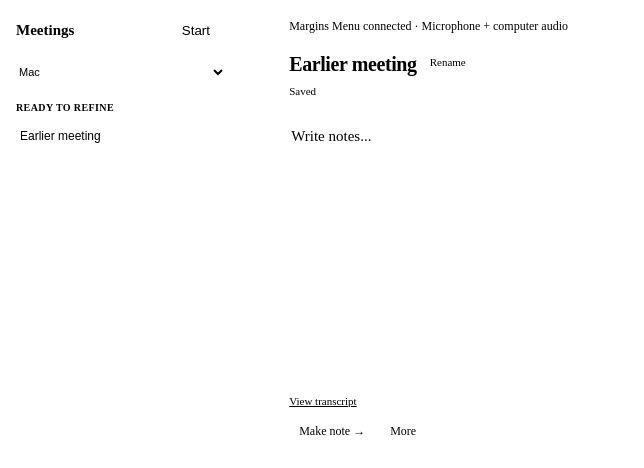
Test: Meetings Mac recorder choice › does not start a second capture while a Menu meeting is already recording
This screenshot has width=644, height=468.
What coordinates should you click on to do the following:
click the button "Start"
I would click on:
 (196, 30)
Its box is [172,16,220,44].
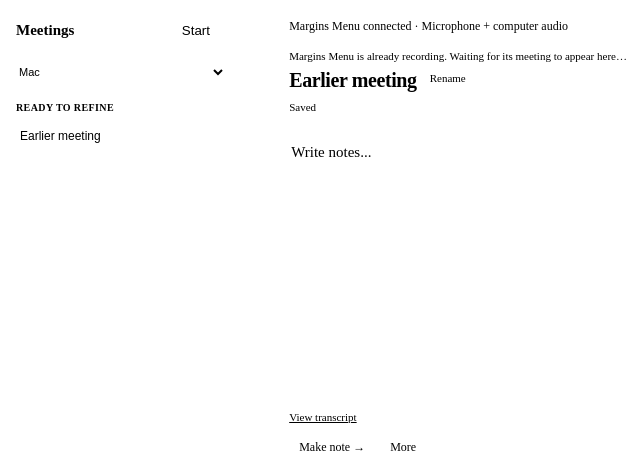
expect the text "Margins Menu is already recording. Waiting for its meeting to appear here…" is shown: met, box [289,50,627,62]
